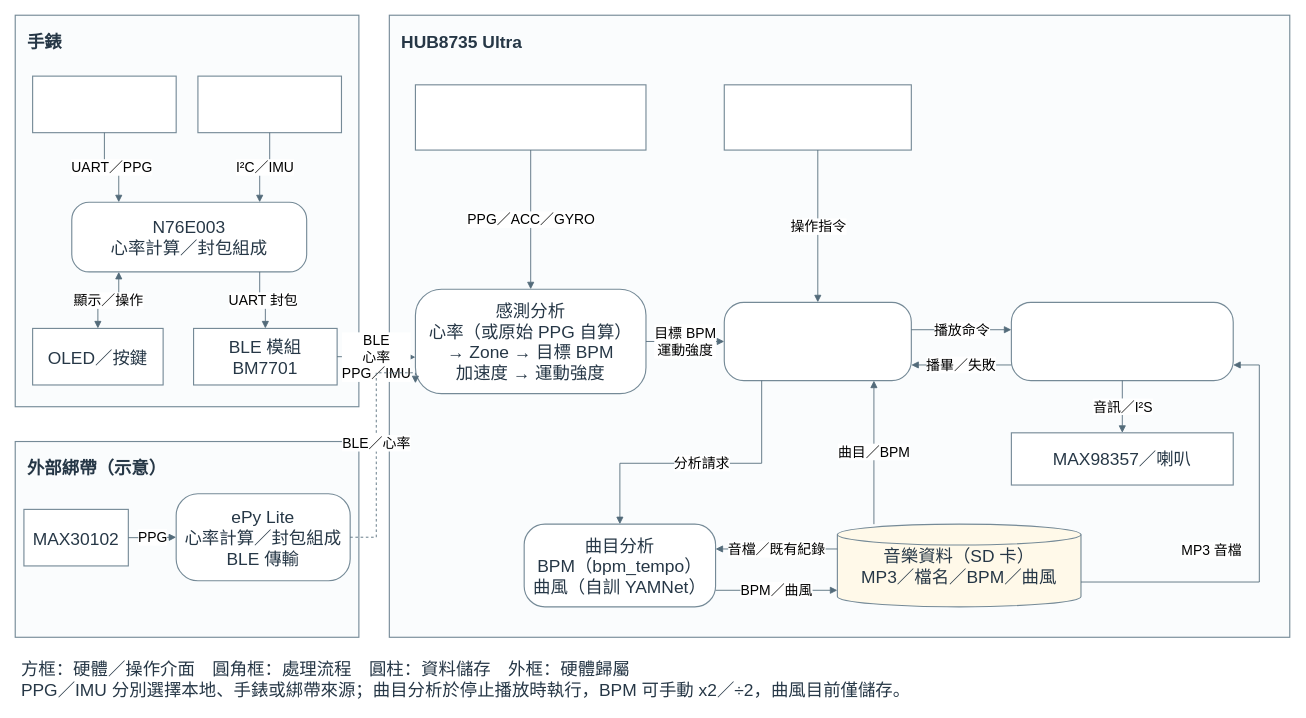
Image size: 1306x718. Some labels were removed from this diagram. The shapes that lost their labels are listed below. From the top down, each one's centre as x and y in pixels, then its label:
At point (104, 104): "PPG 模組 BMH08002-4".
At point (269, 104): "IMU LSM6DS3".
At point (530, 117): "本地 PPG／IMU BMH08002-4／LSM6DS3".
At point (817, 117): "使用者 OLED／按鍵".
At point (817, 341): "控制 Enjoy／Train／DEMO 選曲、手動優先、待機".
At point (1121, 341): "播放 播放 MP3".
